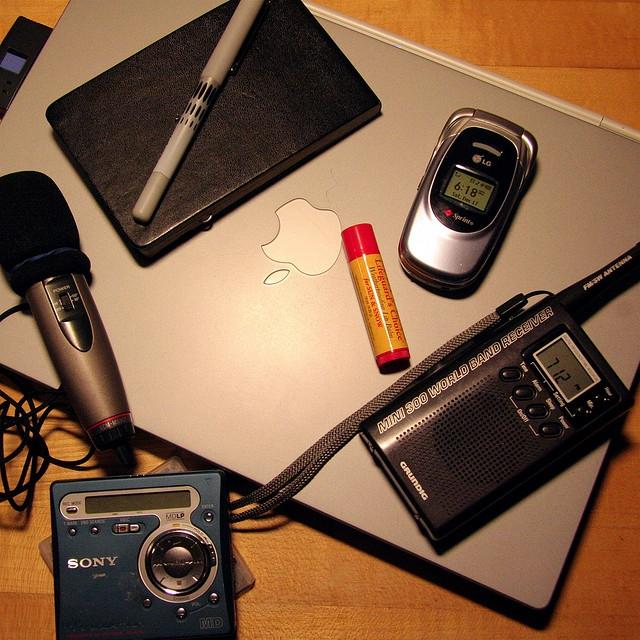apple: (261, 198, 342, 284)
